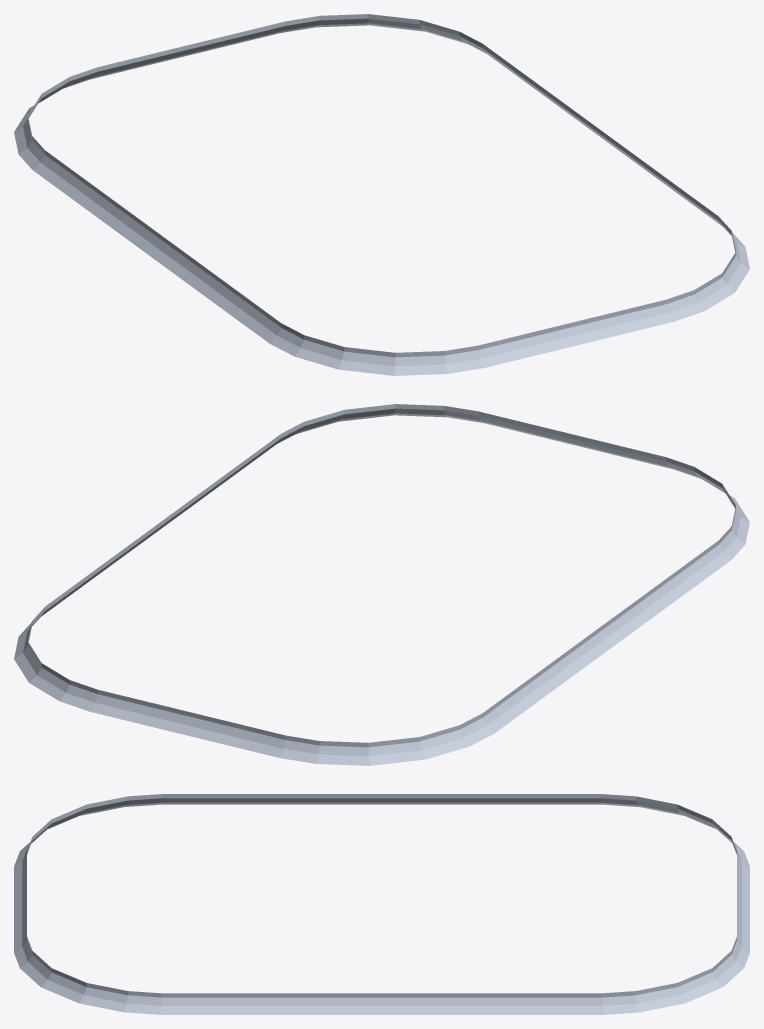
The model's file is Tierlip.FBX.
3 views of the same model, one above another, from view 1: azimuth 30°, elevation 25°; view 2: azimuth 150°, elevation 25°; view 3: azimuth 270°, elevation 25° (orthographic). The views are drawn at different scales.
Parts seen in each view (by area): view 1: TeirLip; view 2: TeirLip; view 3: TeirLip.
Part boxes in pixels (x1,y1,x2,y2): TeirLip: (14, 14, 749, 375); TeirLip: (14, 404, 749, 765); TeirLip: (14, 794, 749, 1014).
Size of the model in its own units: 55.22 by 1.97 by 81.69.
